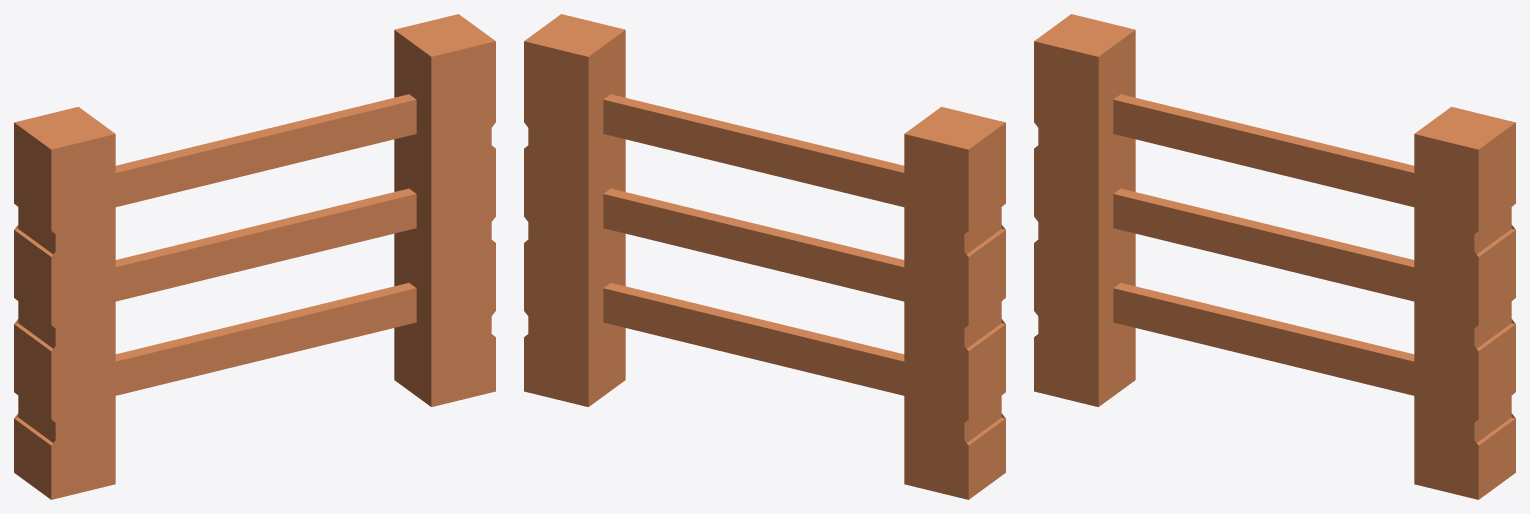
The model's file is Fence.fbx.
The picture shows the model from 3 angles, left to right: view 1: azimuth 30°, elevation 25°; view 2: azimuth 150°, elevation 25°; view 3: azimuth 330°, elevation 25°; orthographic projection.
Parts seen in each view (by area): view 1: Cube.002; view 2: Cube.002; view 3: Cube.002.
Part boxes in pixels (x1=…): Cube.002: x1=14, y1=14, x2=495, y2=499; Cube.002: x1=524, y1=14, x2=1005, y2=499; Cube.002: x1=1034, y1=14, x2=1515, y2=499.
Bounding box in the file's own units: 1380 × 1039 × 200.
